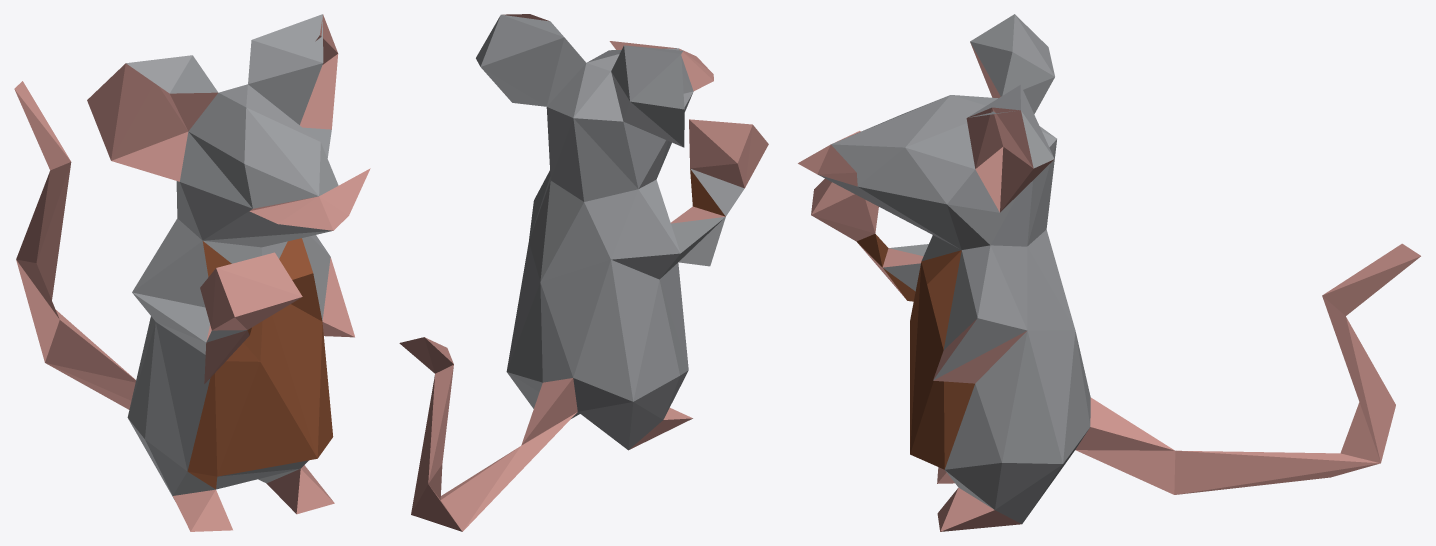
3 renders of one model, left to right at view 1: azimuth 30°, elevation 25°; view 2: azimuth 150°, elevation 25°; view 3: azimuth 270°, elevation 25°, orthographic. The views are drawn at different scales.
Visible parts, largest first — view 1: lion-200.001; view 2: lion-200.001; view 3: lion-200.001.
Boxes of the visible parts, box(x1,y1,x2,y2) form: lion-200.001: box(14, 14, 370, 531); lion-200.001: box(399, 14, 768, 531); lion-200.001: box(798, 14, 1420, 531).
Bounding box in the file's own units: 0.443 × 0.7967 × 1.02.
